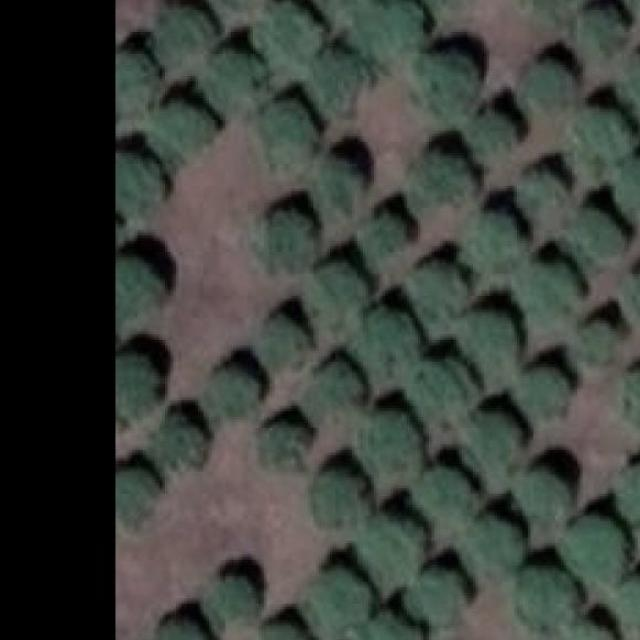Tree: (248, 0, 322, 74), (143, 98, 214, 162), (359, 409, 424, 478), (513, 254, 583, 318), (563, 516, 629, 582), (352, 0, 424, 60), (414, 45, 480, 109), (156, 1, 222, 65), (459, 304, 519, 374), (407, 356, 471, 420), (357, 307, 418, 373), (511, 568, 579, 627), (118, 252, 172, 326), (462, 516, 528, 576), (365, 516, 426, 580), (308, 466, 372, 527), (116, 147, 170, 219), (202, 49, 261, 114), (252, 98, 310, 164), (304, 353, 363, 417), (258, 202, 314, 268), (517, 464, 577, 525), (310, 261, 371, 321), (407, 151, 467, 211), (409, 257, 470, 316), (412, 468, 477, 522), (461, 211, 519, 270), (467, 408, 520, 472), (522, 59, 578, 118), (572, 112, 636, 162), (260, 312, 314, 371), (314, 156, 366, 217), (118, 354, 165, 420), (409, 568, 464, 624), (566, 208, 622, 263), (314, 571, 366, 629), (313, 52, 363, 110), (118, 464, 165, 525), (206, 367, 260, 420), (517, 367, 572, 417), (464, 109, 517, 158), (208, 576, 255, 629), (121, 48, 163, 107), (519, 169, 566, 219), (258, 422, 312, 464), (160, 414, 203, 466), (362, 211, 409, 255), (578, 321, 622, 365), (585, 8, 624, 57), (518, 0, 592, 23), (613, 59, 640, 119), (366, 614, 426, 640), (613, 158, 640, 213), (613, 576, 640, 629), (621, 464, 640, 525), (151, 617, 200, 640), (621, 375, 640, 428), (624, 263, 640, 318), (569, 623, 619, 640), (261, 623, 309, 640), (309, 0, 372, 12), (619, 0, 640, 18)
